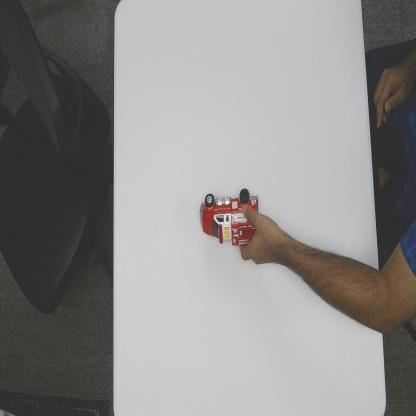Arm: (285, 217, 416, 335)
Firetruck: (200, 187, 259, 248)
Hand: (240, 202, 286, 267)
